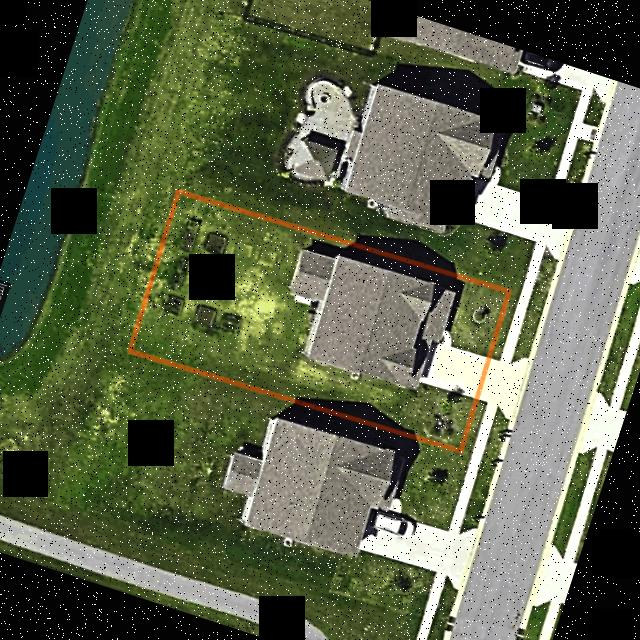Driveway: (419, 329, 487, 397)
Extra Driveway: (479, 356, 529, 420)
Extra Lawn: (511, 297, 545, 362), (491, 290, 520, 360), (481, 404, 510, 464), (462, 398, 488, 456)
Extra Sidewalk: (500, 294, 530, 362), (471, 401, 497, 459)
House: (290, 247, 456, 388)
